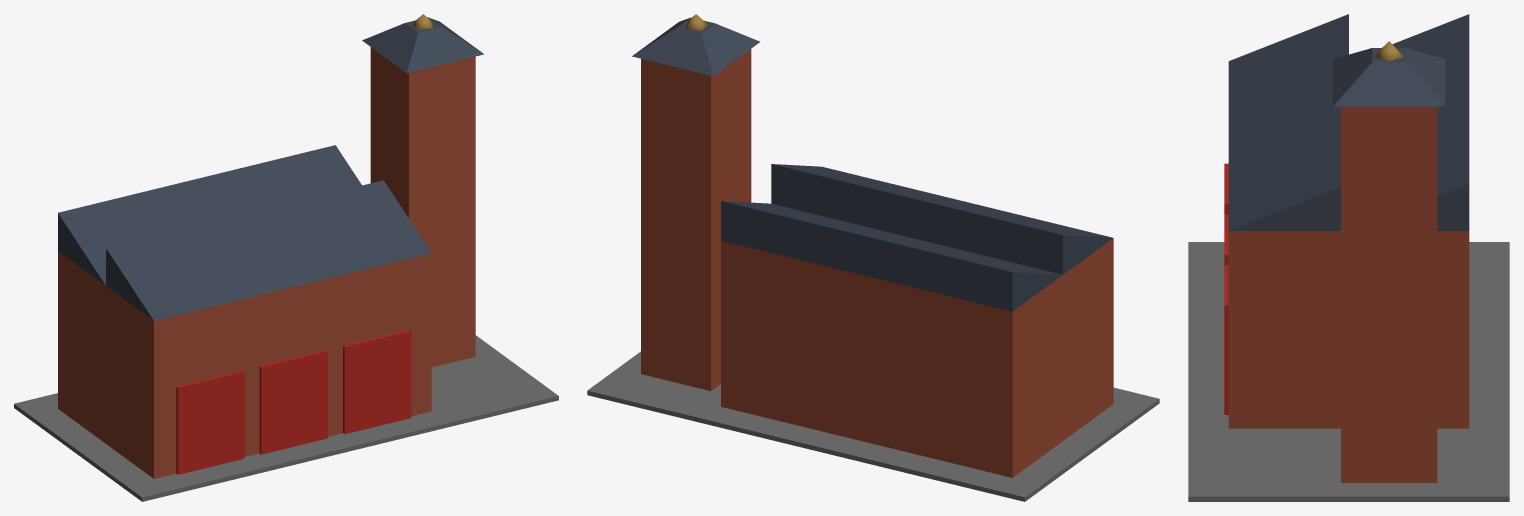
The model's file is bld_special_fire_station_a05_lod2.glb.
3 renders of one model, left to right at view 1: azimuth 30°, elevation 25°; view 2: azimuth 150°, elevation 25°; view 3: azimuth 270°, elevation 25°, orthographic. The views are drawn at different scales.
Visible parts, largest first — view 1: body; view 2: body; view 3: body.
Boxes of the visible parts, box(x1,y1,x2,y2) form: body: box(14, 14, 558, 501); body: box(587, 14, 1159, 501); body: box(1188, 14, 1509, 501).
Size of the model in its own units: 15 by 11.74 by 8.
